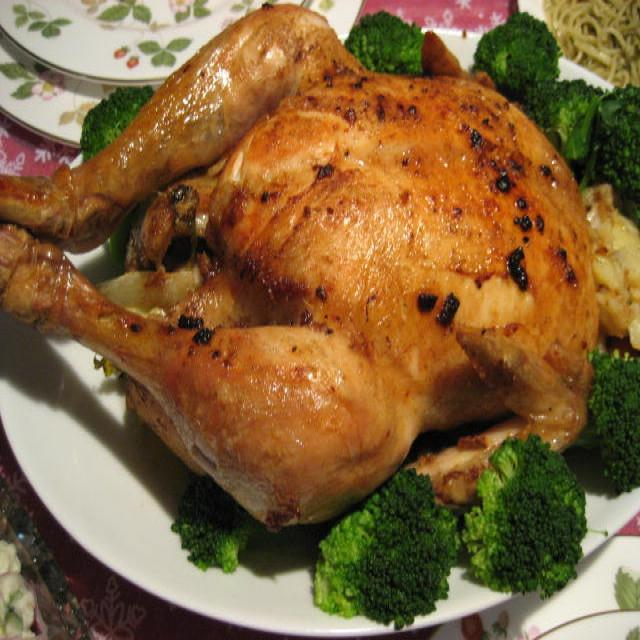Broccoli: (468, 443, 588, 587), (339, 507, 464, 609), (472, 11, 567, 97), (598, 361, 640, 483)
Chicken roast: (9, 34, 606, 490)
